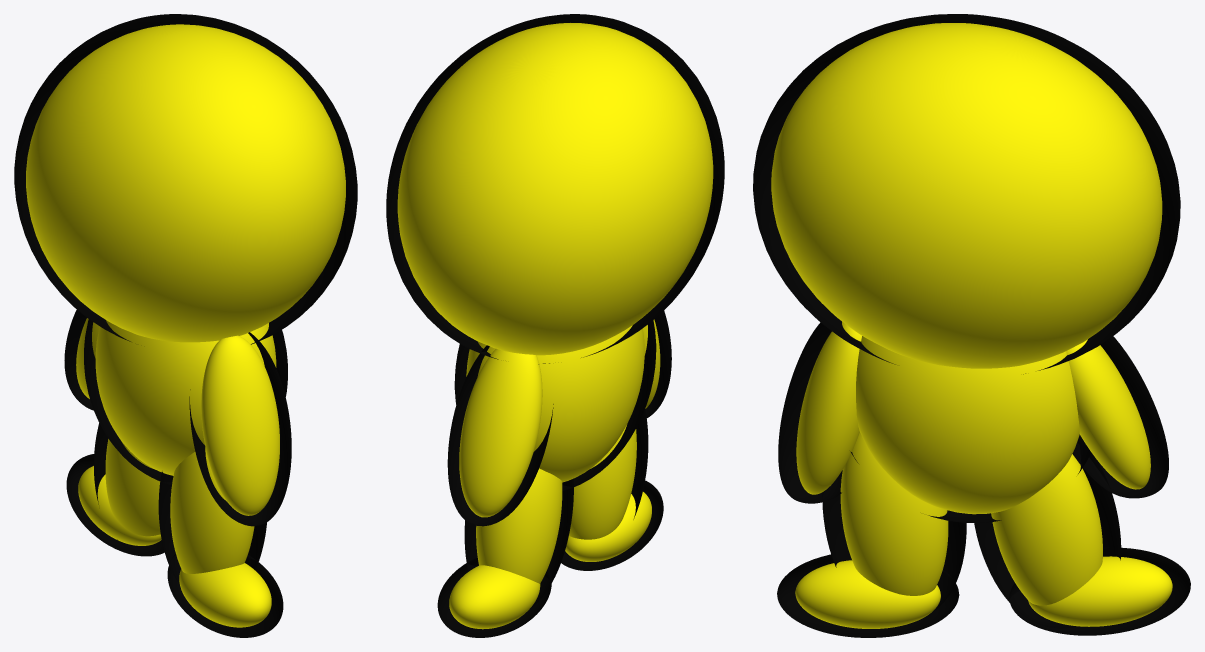
Rendered from Player.fbx.
3 views of the same model, side by side, from view 1: azimuth 30°, elevation 25°; view 2: azimuth 150°, elevation 25°; view 3: azimuth 270°, elevation 25° (orthographic). The views are drawn at different scales.
Parts seen in each view (by area): view 1: Head.003; view 2: Head.003; view 3: Head.003.
Part boxes in pixels (<box>): Head.003: <box>14,14,357,637</box>; Head.003: <box>386,14,724,637</box>; Head.003: <box>753,14,1190,637</box>.
Size of the model in its own units: 224 by 427 by 280.
